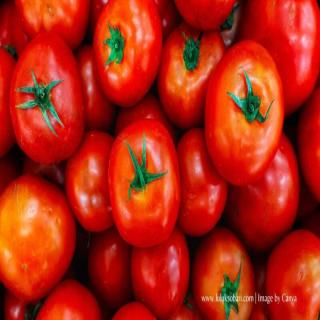Tomat: (205, 40, 286, 187), (109, 119, 182, 248), (193, 228, 256, 319)
